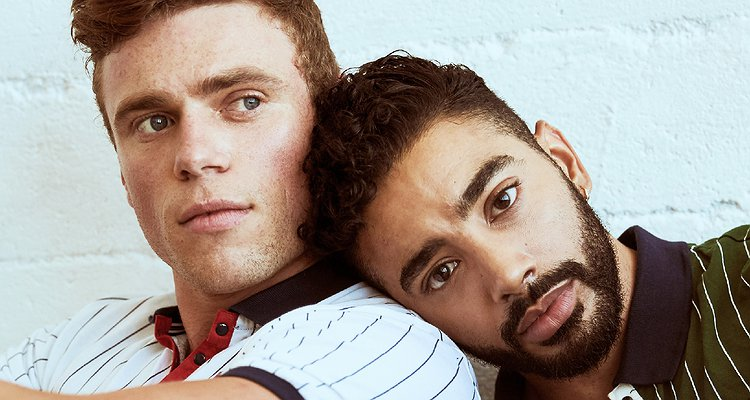bare: (113, 141, 326, 288), (462, 215, 623, 370)
